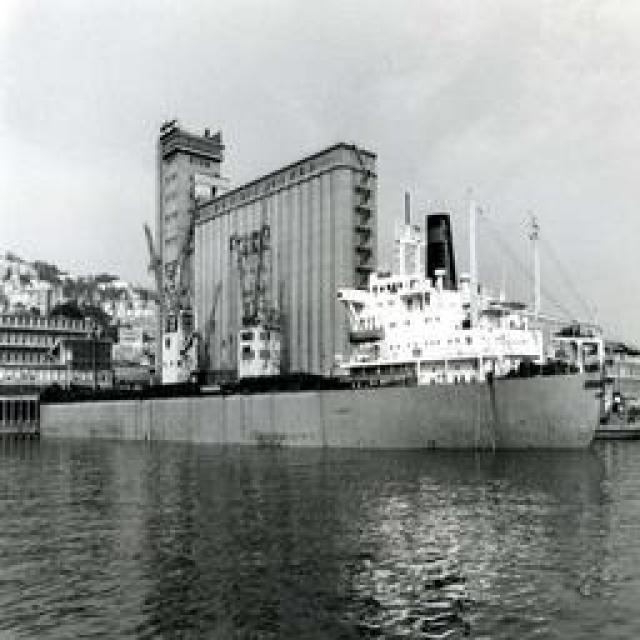CIV_Ship: (111, 126, 601, 426)
